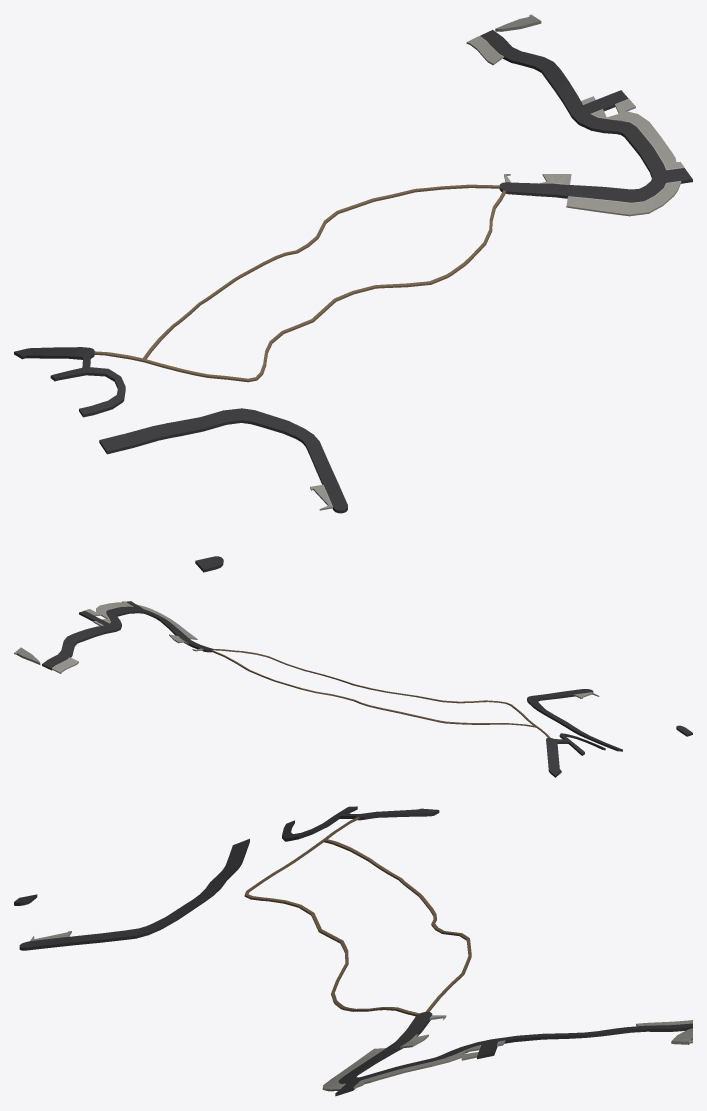
The model's file is 17-109429-59471.9f7fffc4.glb.
3 views of the same model, one above another, from view 1: azimuth 30°, elevation 25°; view 2: azimuth 150°, elevation 25°; view 3: azimuth 270°, elevation 25° (orthographic). The views are drawn at different scales.
Size of the model in its own units: 293 by 80.7 by 246.
